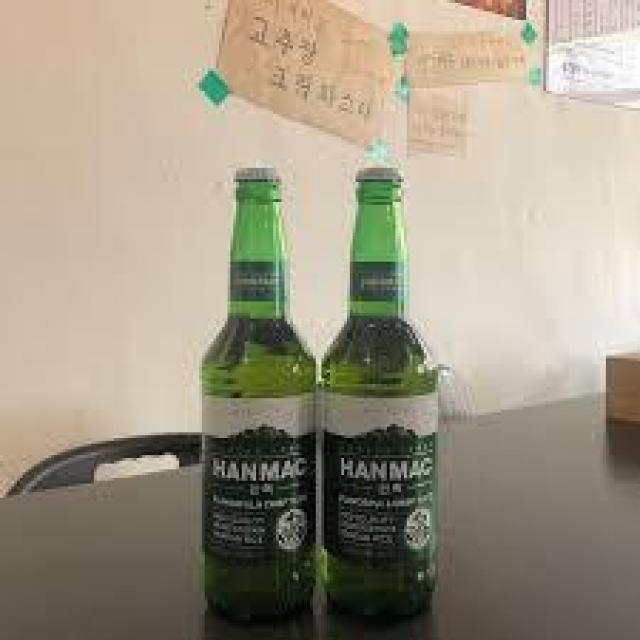beer-bottle: (196, 171, 322, 628), (318, 170, 444, 626)
